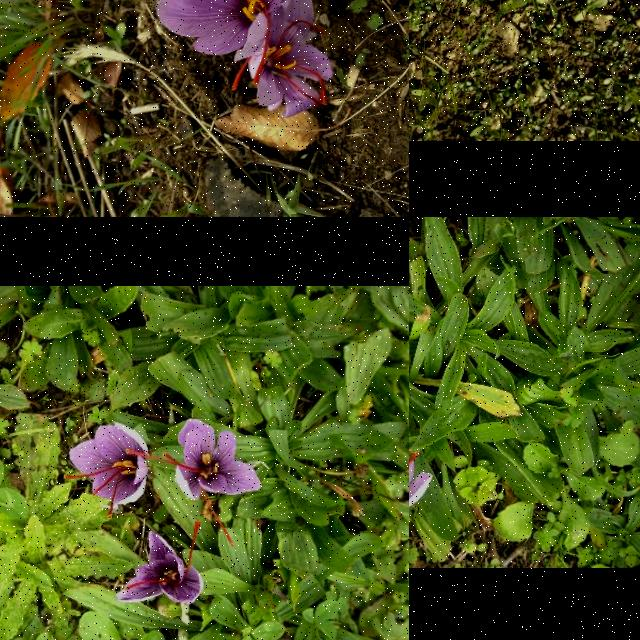flower: (125, 419, 262, 547), (63, 424, 149, 520), (116, 520, 204, 604), (409, 450, 433, 525)
overlap: (154, 0, 331, 118)
